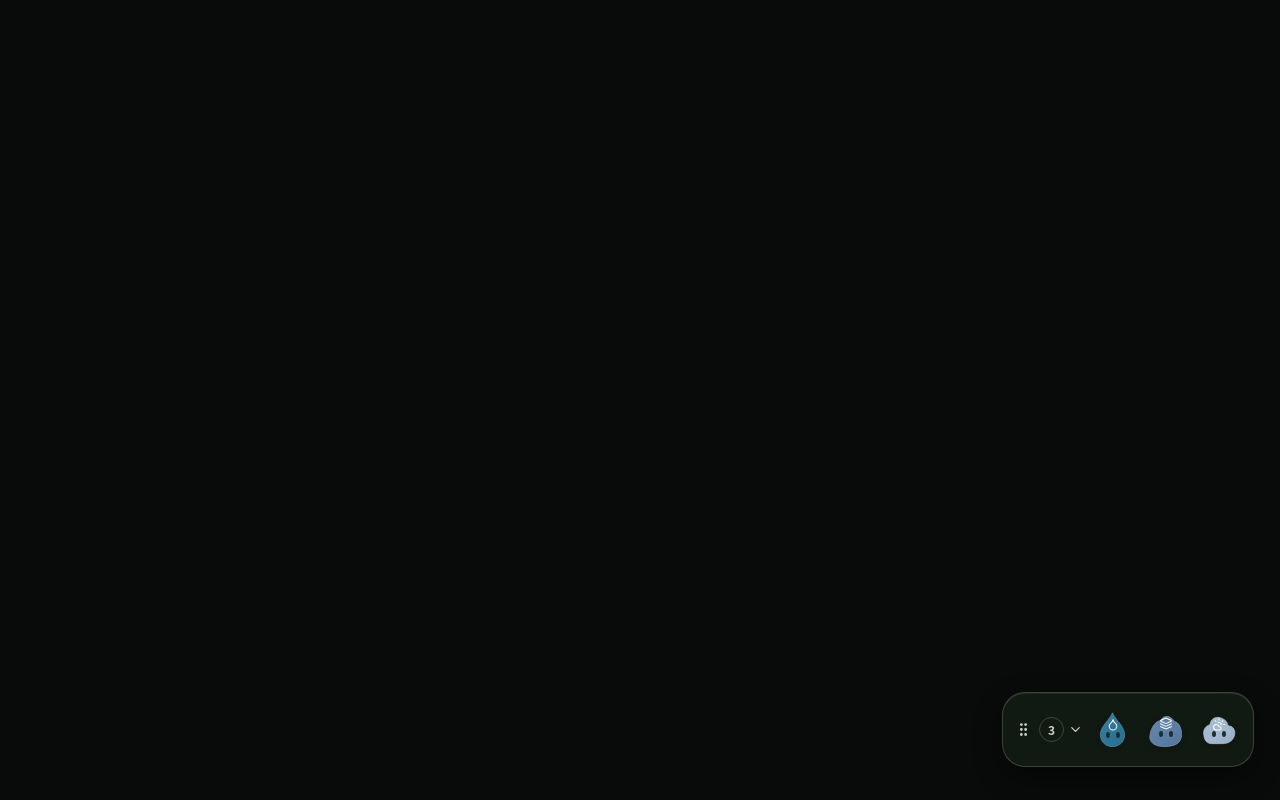
Test: polls a pending response and reports a failed reply honestly
The width and height of the screenshot is (1280, 800).
Click the button named "Open Water specialist" at point(1112, 730), box [1088,705,1137,754]
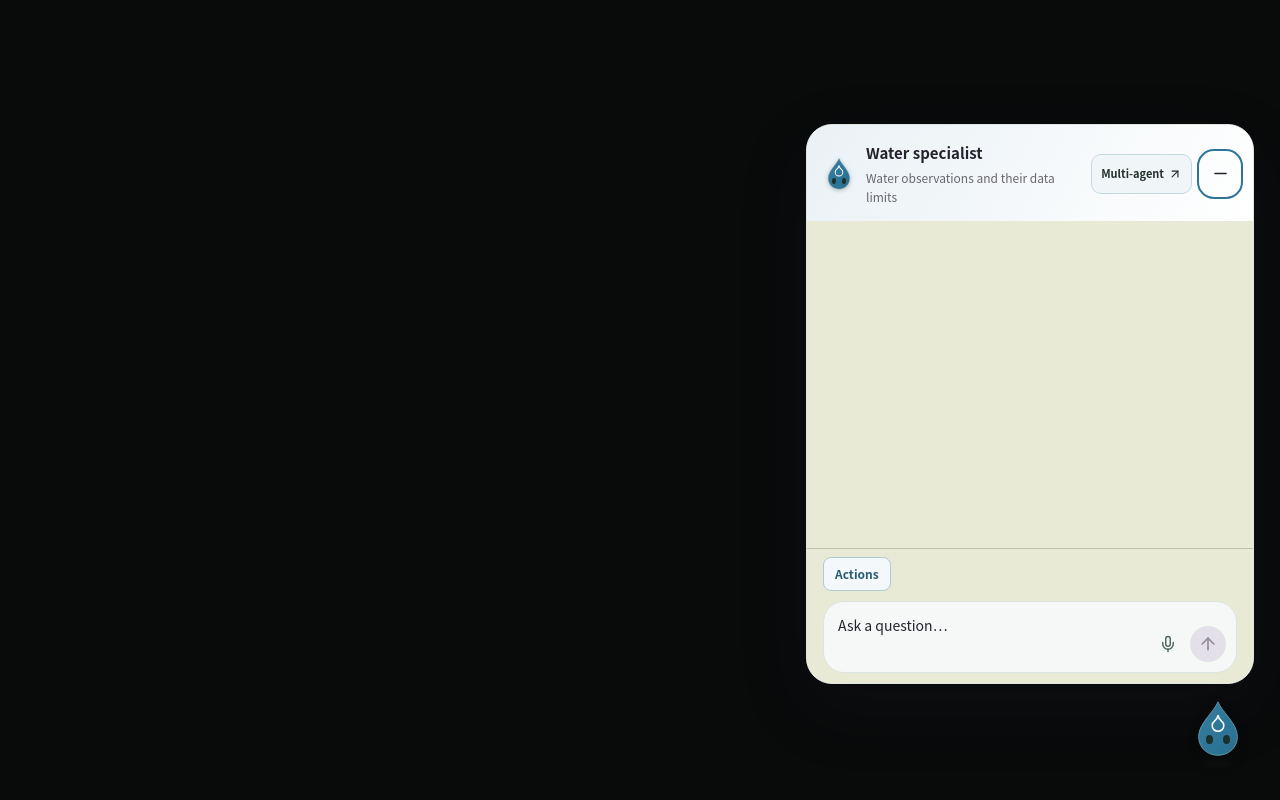
Expected: the text box is shown
Type "Question" into the text box at point(990, 638), box [838,614,1142,662]
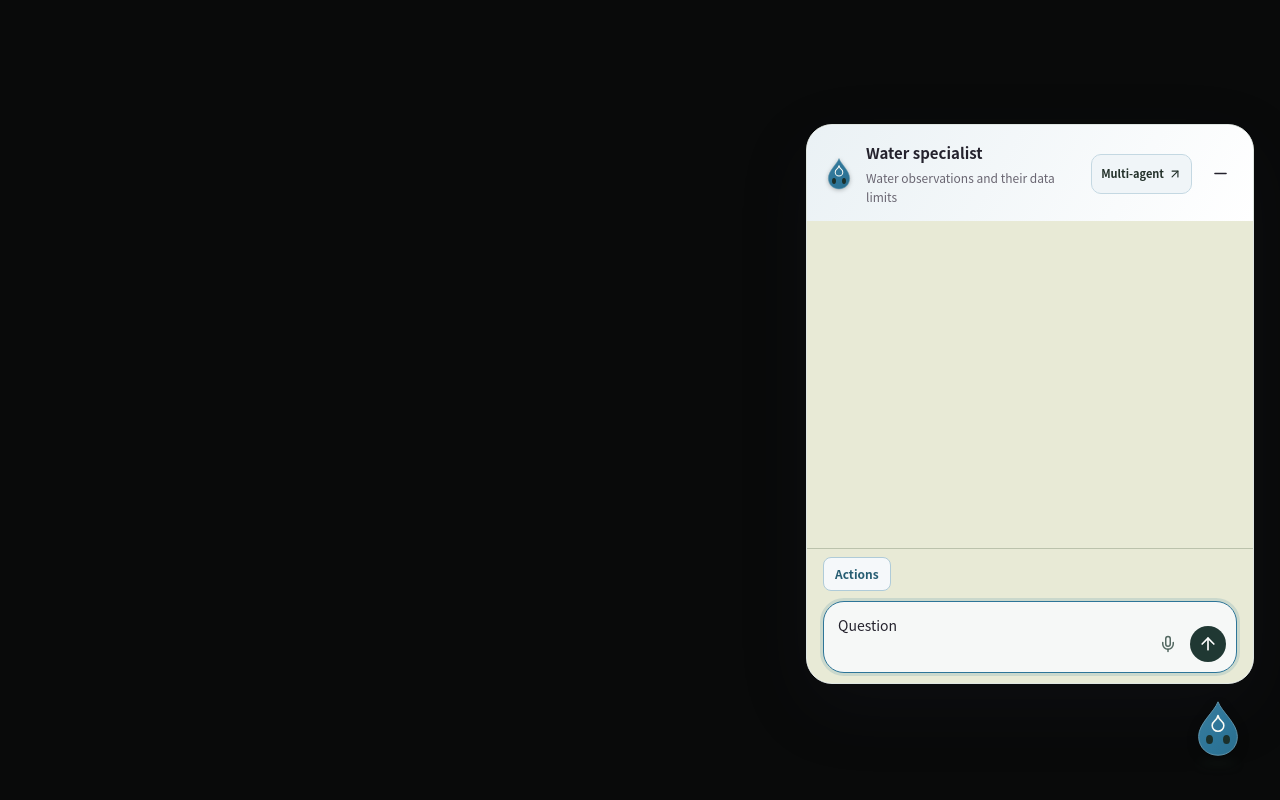
Click the button named "Send message" at point(1208, 644), box [1190,626,1226,662]
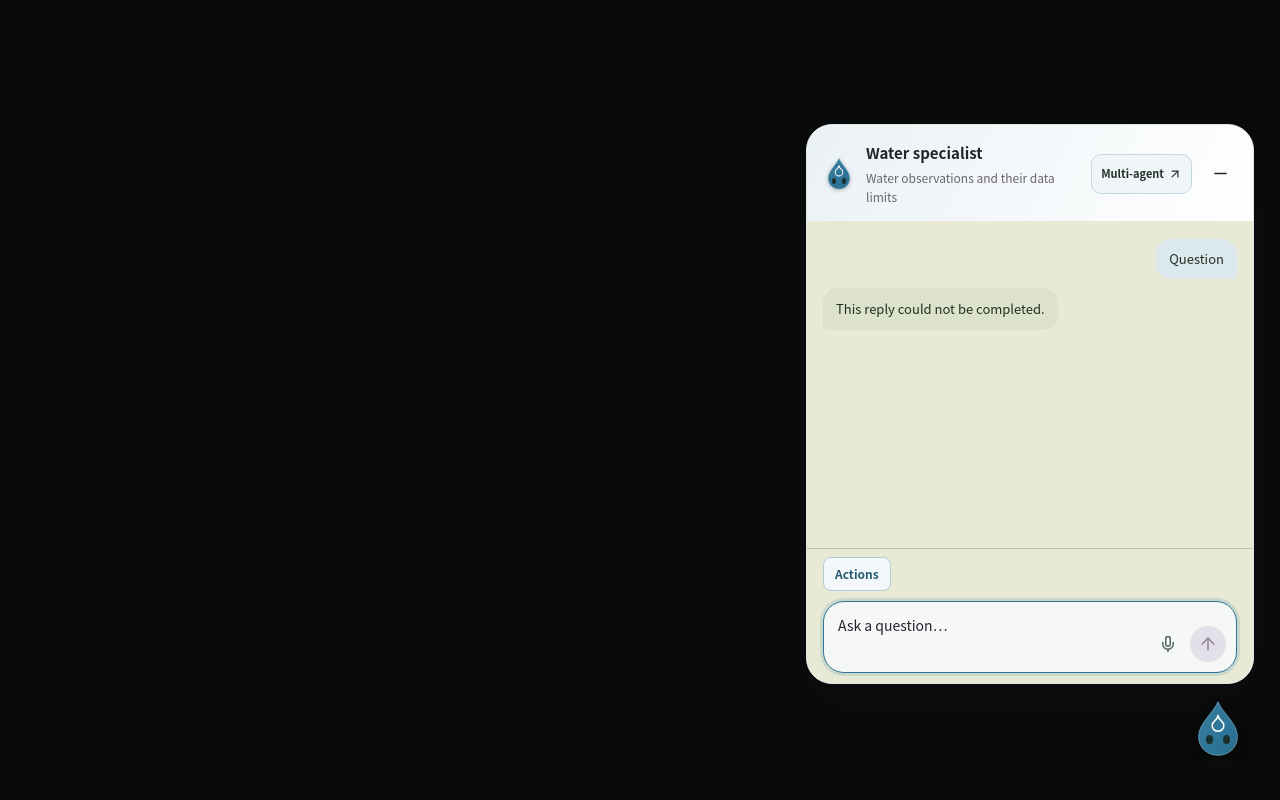
Expected: the message shows "This reply could not be completed", [836,299,1045,318]
